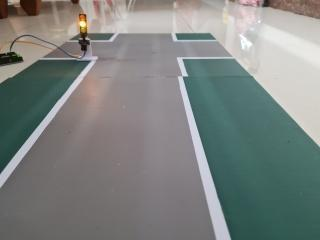yellow: (71, 8, 95, 40)
